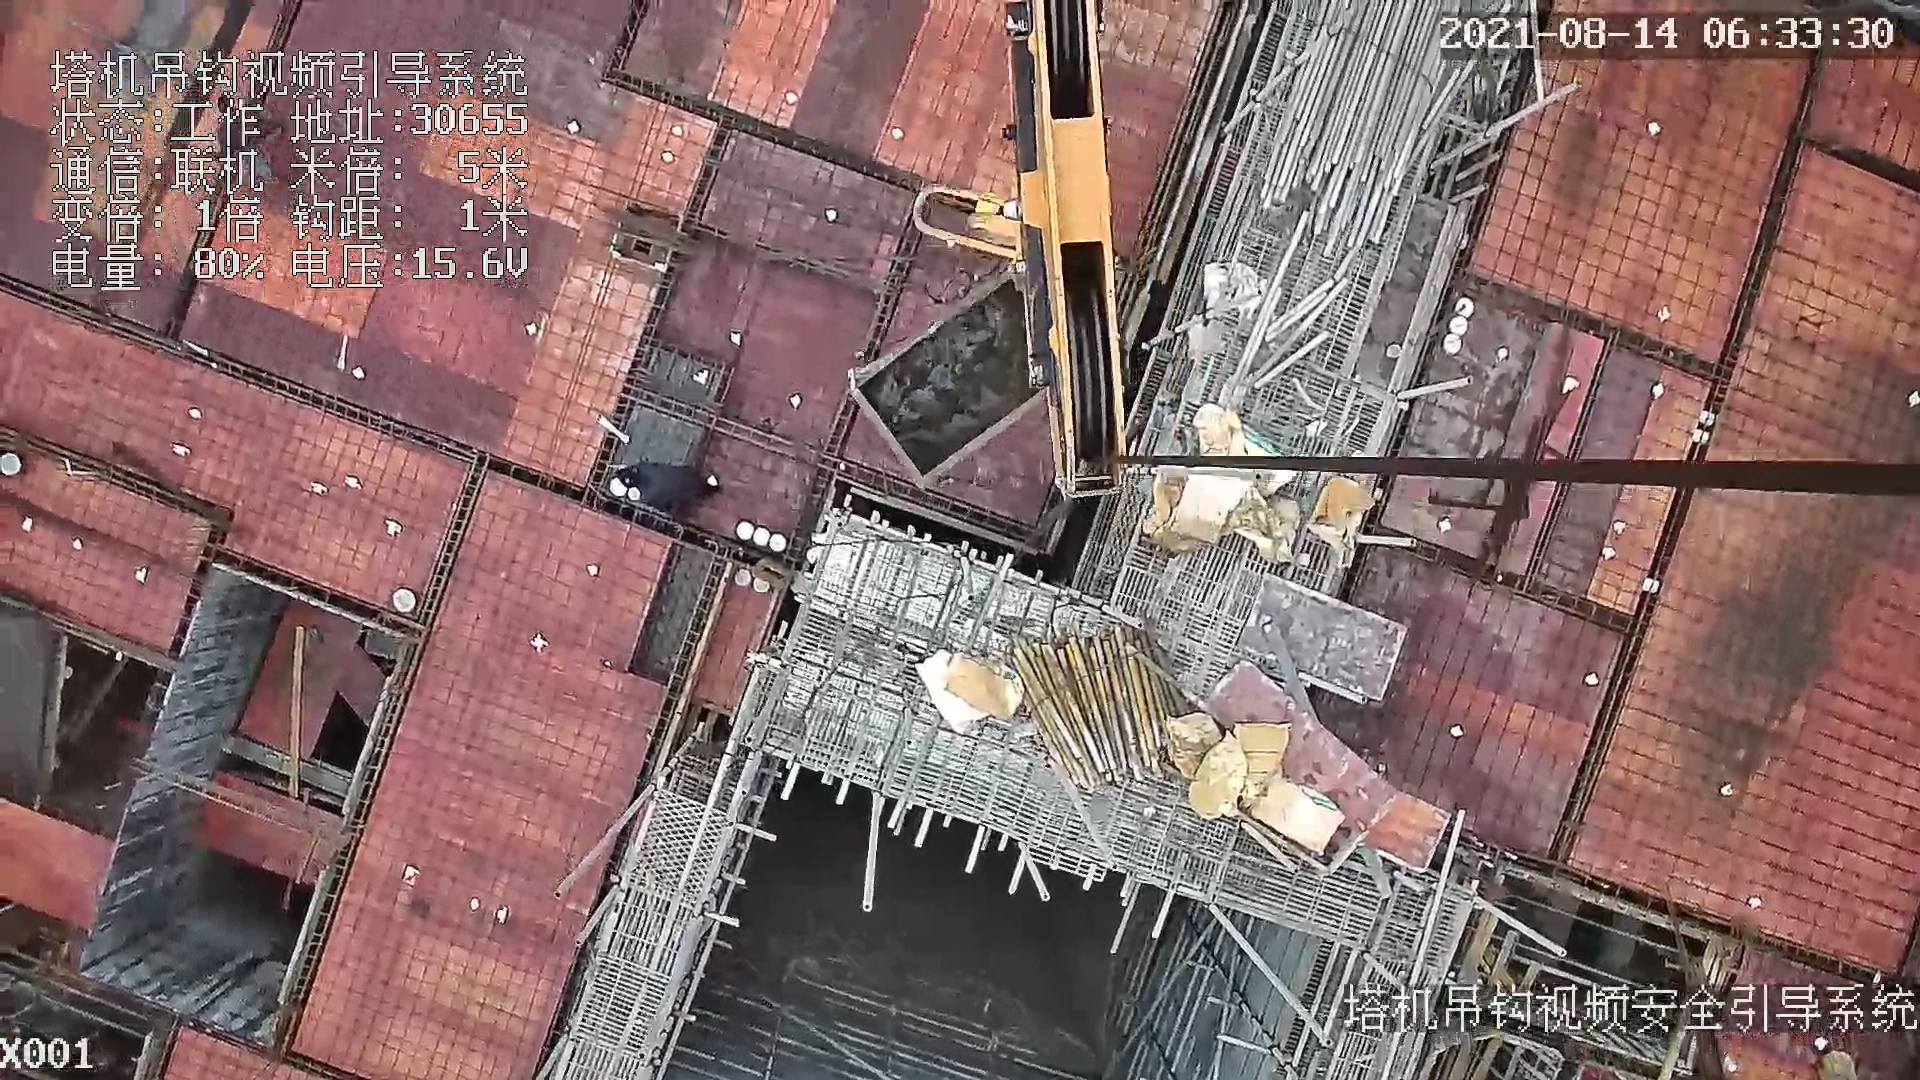hook: (913, 1, 1132, 501)
hopper: (831, 258, 1065, 496)
person: (613, 453, 722, 515)
scaffold: (1258, 1, 1479, 232), (1010, 622, 1186, 783)
